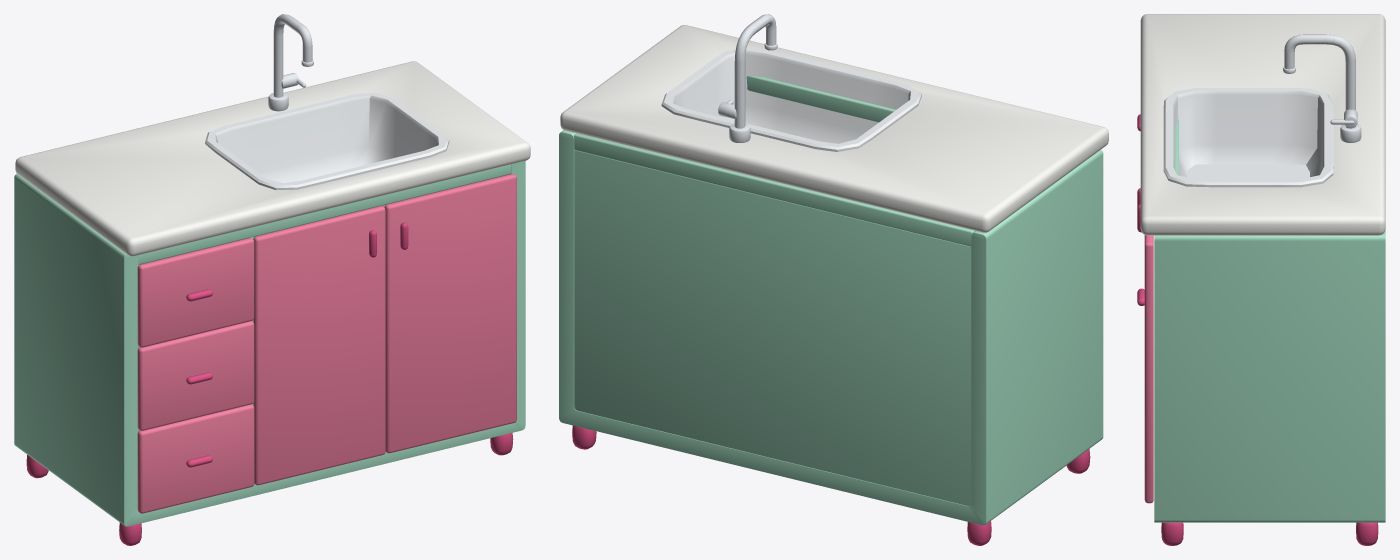
Rendered from armario_cozinha_pia_moderna_menta.glb.
3 renders of one model, left to right at view 1: azimuth 30°, elevation 25°; view 2: azimuth 150°, elevation 25°; view 3: azimuth 270°, elevation 25°, orthographic. The views are drawn at different scales.
Visible parts, largest first — view 1: armario_cozinha_pia_moderna_menta, porta_1, porta_2, gaveta_1, gaveta_2, gaveta_3; view 2: armario_cozinha_pia_moderna_menta; view 3: armario_cozinha_pia_moderna_menta, porta_2.
Boxes of the visible parts, x1,y1,x2,y2 form: armario_cozinha_pia_moderna_menta: (14,14,530,545); porta_1: (253,206,385,485); porta_2: (384,174,516,453); gaveta_1: (137,238,254,347); gaveta_2: (137,321,254,430); gaveta_3: (137,404,254,513); armario_cozinha_pia_moderna_menta: (559,14,1108,545); armario_cozinha_pia_moderna_menta: (1140,14,1385,545); porta_2: (1137,204,1153,503).
Bounding box in the file's own units: 1.2 × 1.18 × 0.607.
Materials: 1 (1 with a texture image).
